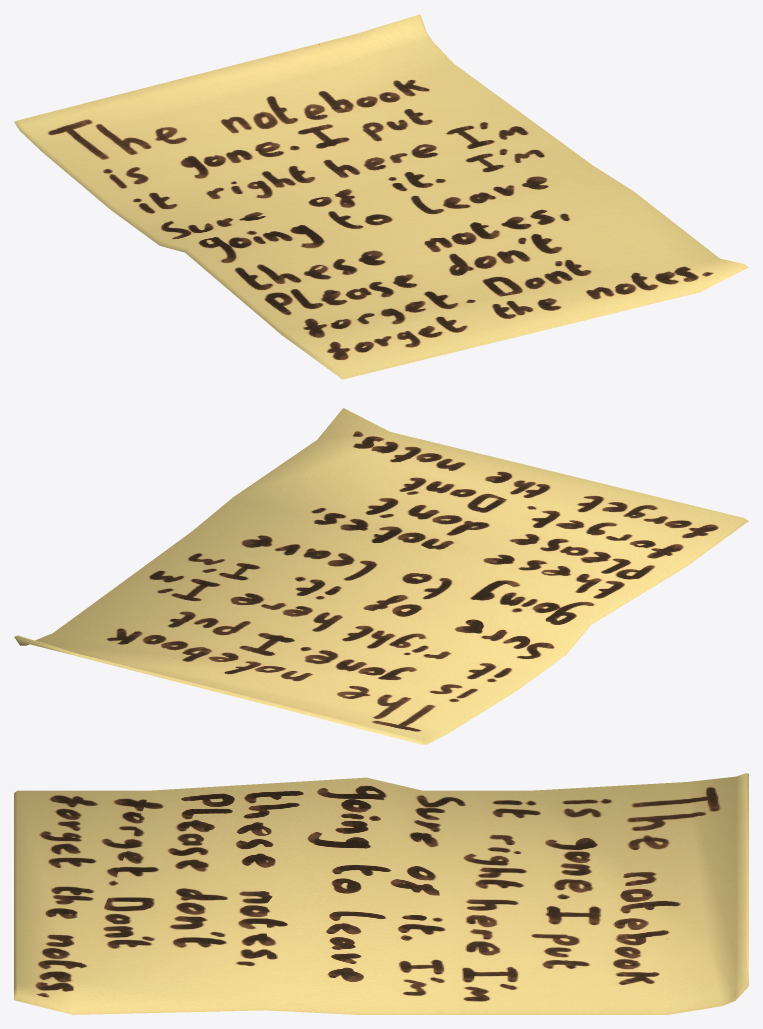
File: NoteMesh1.fbx
3 renders of one model, top to bottom at view 1: azimuth 30°, elevation 25°; view 2: azimuth 150°, elevation 25°; view 3: azimuth 270°, elevation 25°, orthographic. The views are drawn at different scales.
Parts seen in each view (by area): view 1: NoteMesh1; view 2: NoteMesh1; view 3: NoteMesh1.
Part boxes in pixels (x1,y1,x2,y2): NoteMesh1: [14, 14, 748, 379]; NoteMesh1: [14, 408, 748, 744]; NoteMesh1: [14, 773, 748, 1014].
Bounding box in the file's own units: 21.71 × 1.37 × 30.39.
